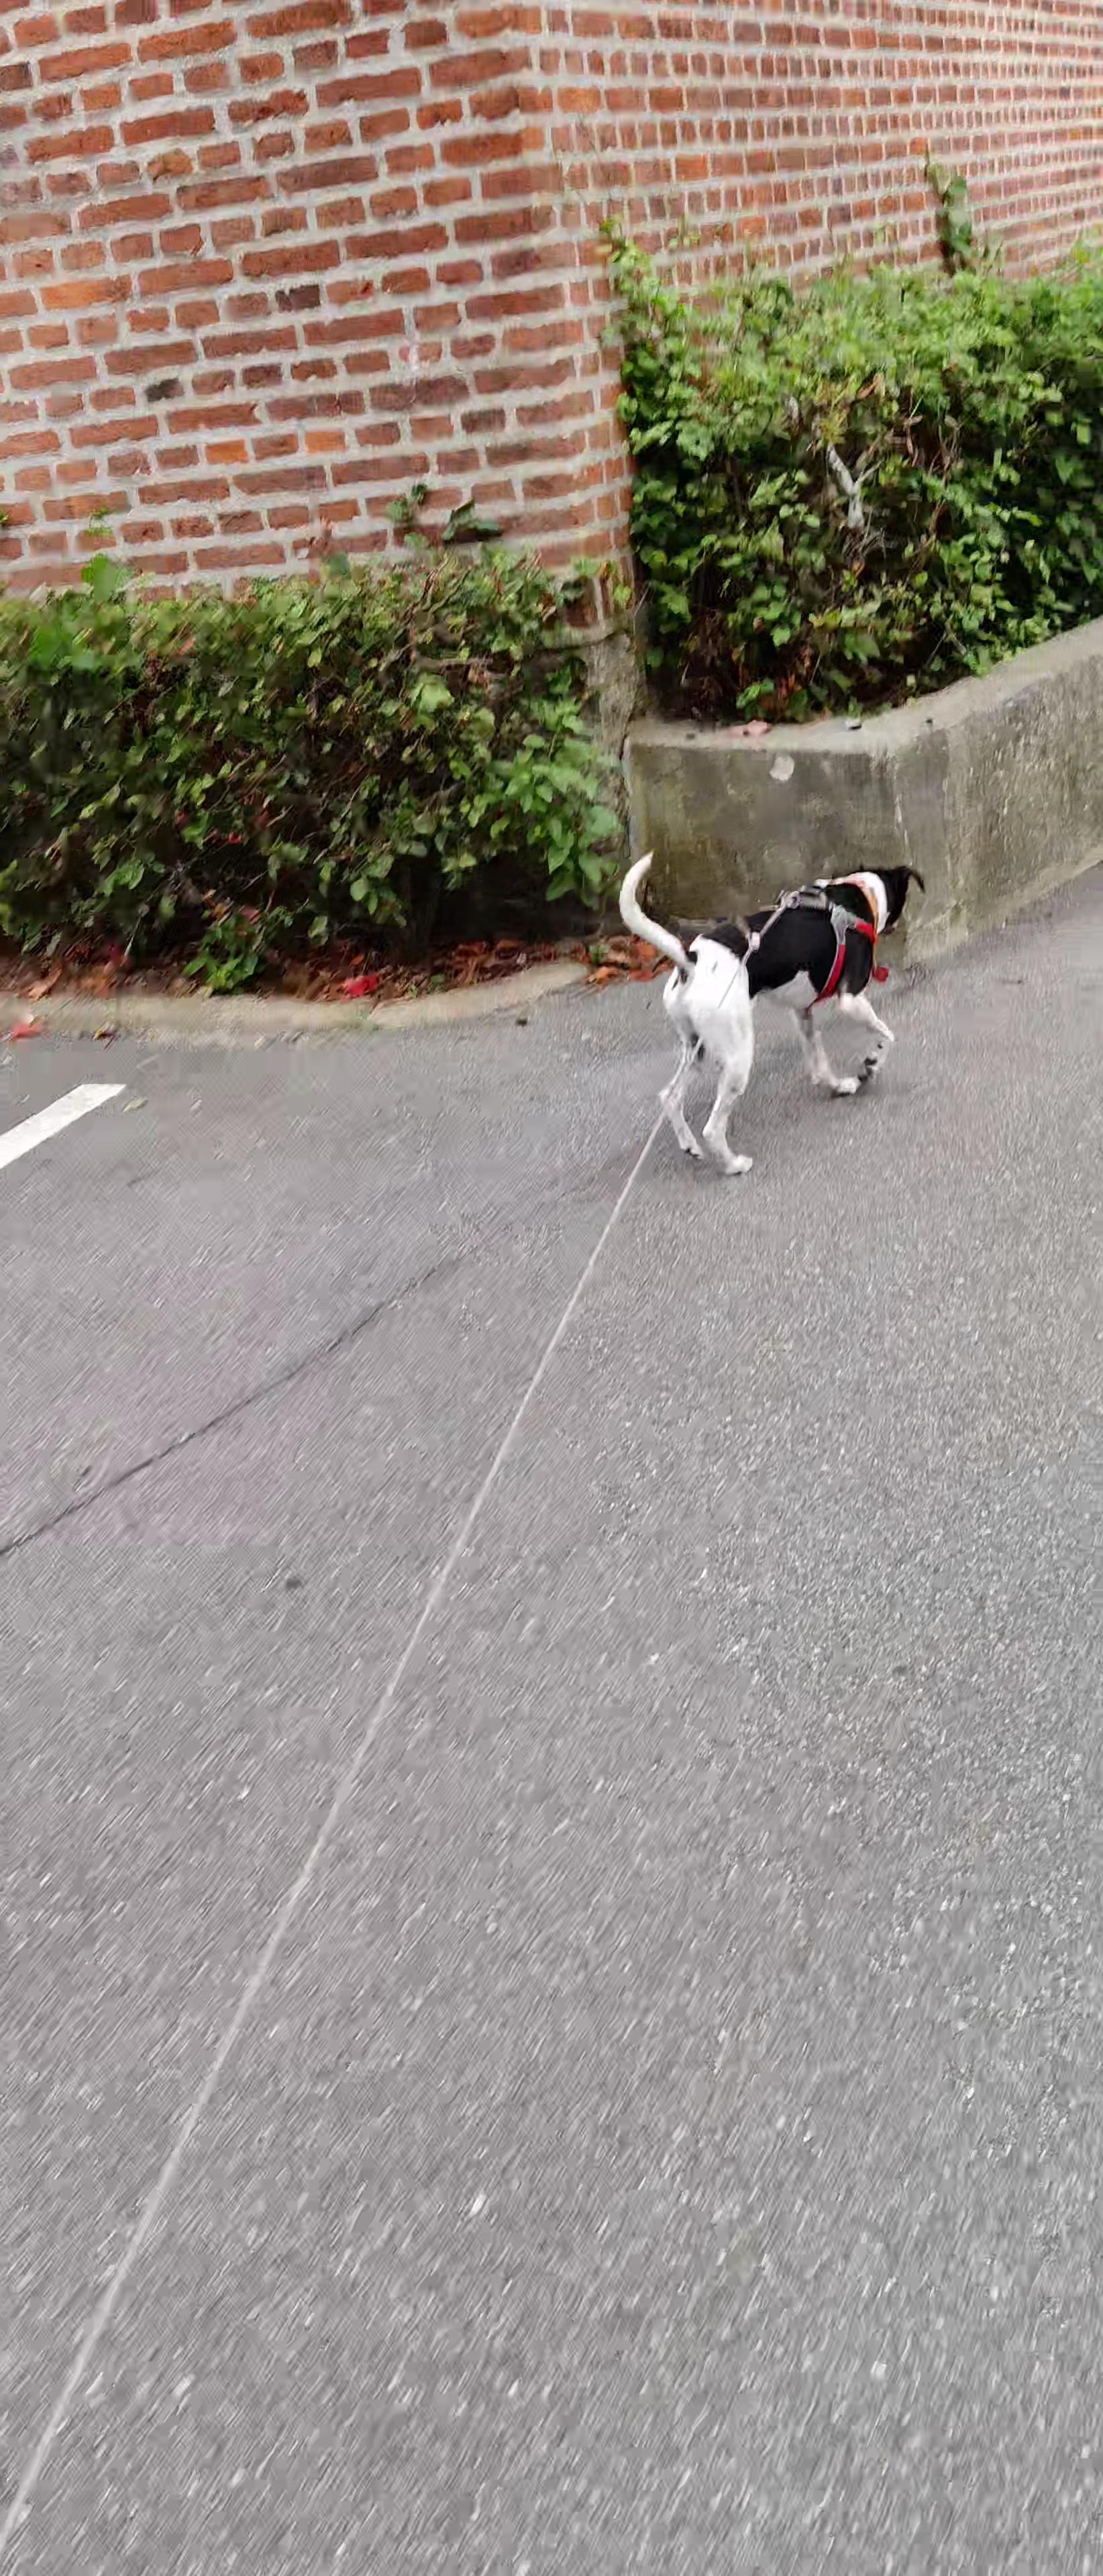Dog: (615, 844, 930, 1176)
